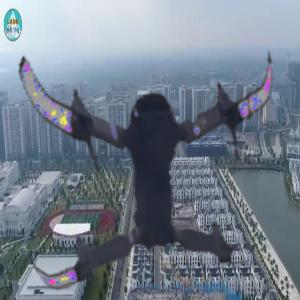drone: (5, 1, 296, 292)
